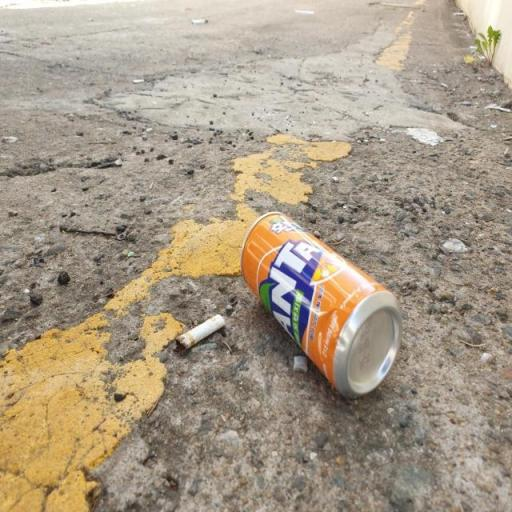metal: (227, 189, 410, 405)
